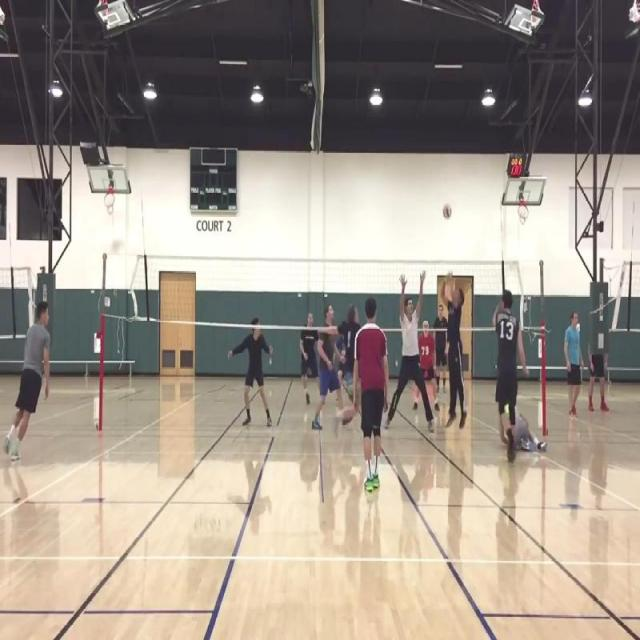volleyball: (442, 202, 452, 217)
